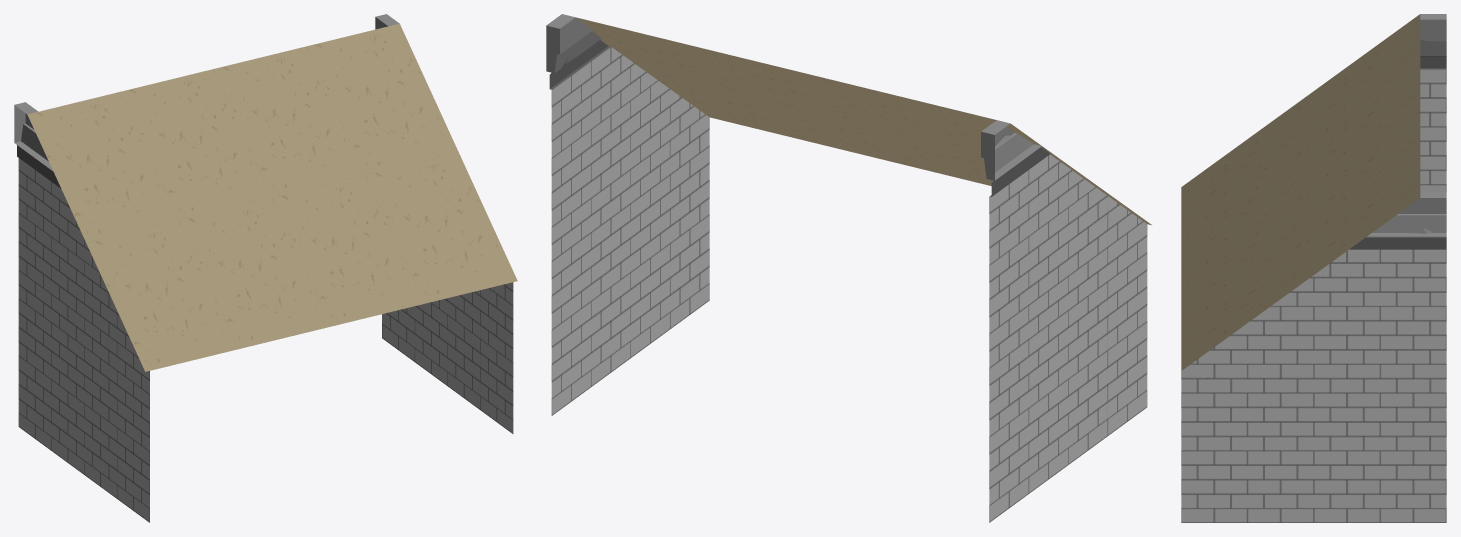
File: SW_ENV_StationStair_Mid_Surround_Upper_FF.fbx
The picture shows the model from 3 angles, left to right: view 1: azimuth 30°, elevation 25°; view 2: azimuth 150°, elevation 25°; view 3: azimuth 270°, elevation 25°; orthographic projection. The views are drawn at different scales.
Parts seen in each view (by area): view 1: SW_ENV_StationStair_Mid_Surround_Upper_FF; view 2: SW_ENV_StationStair_Mid_Surround_Upper_FF; view 3: SW_ENV_StationStair_Mid_Surround_Upper_FF.
Part boxes in pixels (box(x1,y1,x2,y2)): SW_ENV_StationStair_Mid_Surround_Upper_FF: box(14, 14, 517, 522); SW_ENV_StationStair_Mid_Surround_Upper_FF: box(546, 14, 1151, 522); SW_ENV_StationStair_Mid_Surround_Upper_FF: box(1181, 14, 1446, 522).
Size of the model in its own units: 410 by 340 by 250.
